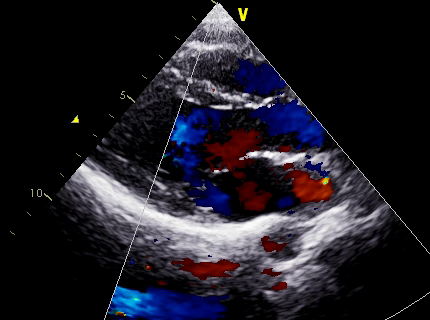MR: (172, 162, 237, 224)
